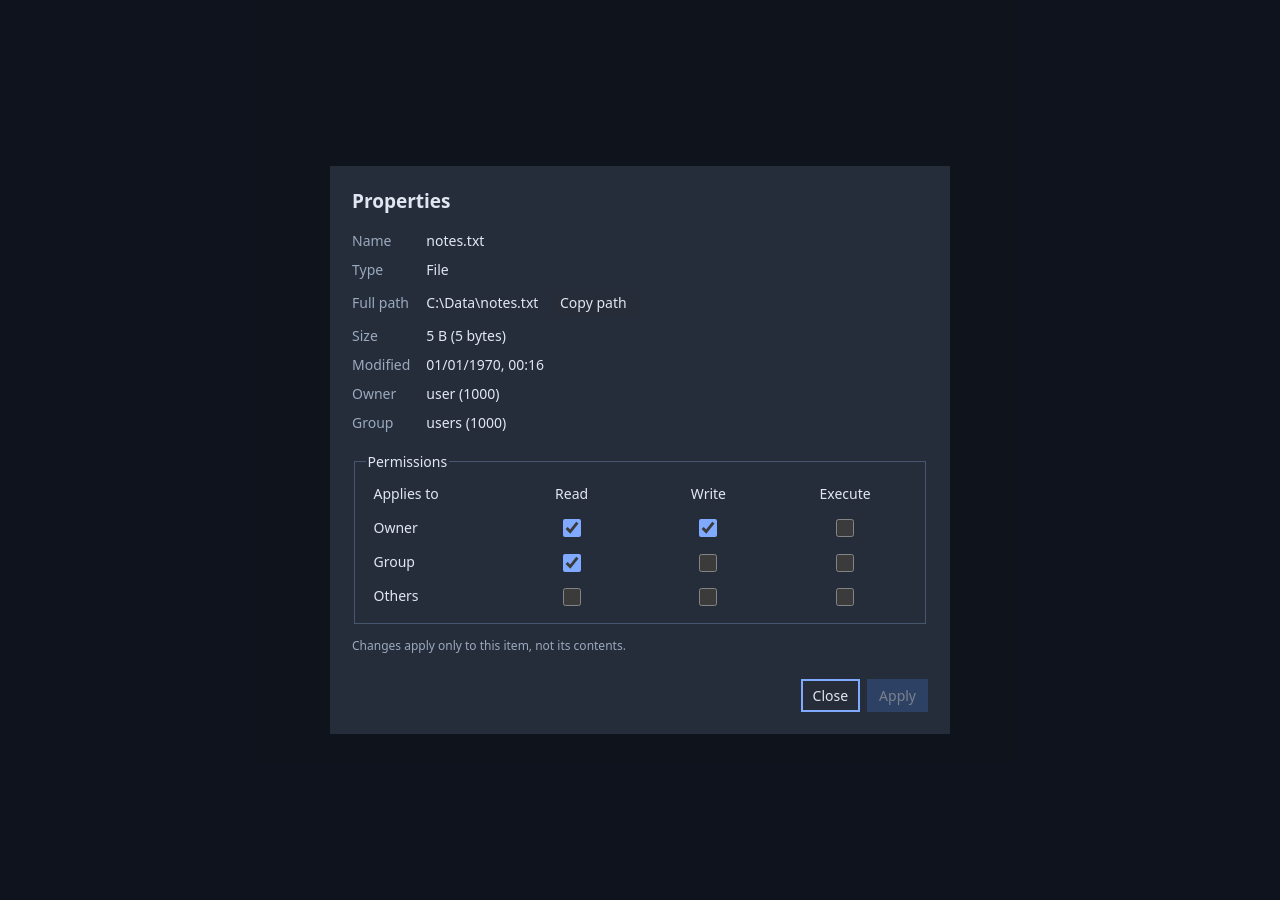
copies a displayable Windows path as text
Click the button "Copy path" at (593, 303), box left=550, top=289, right=637, bottom=316
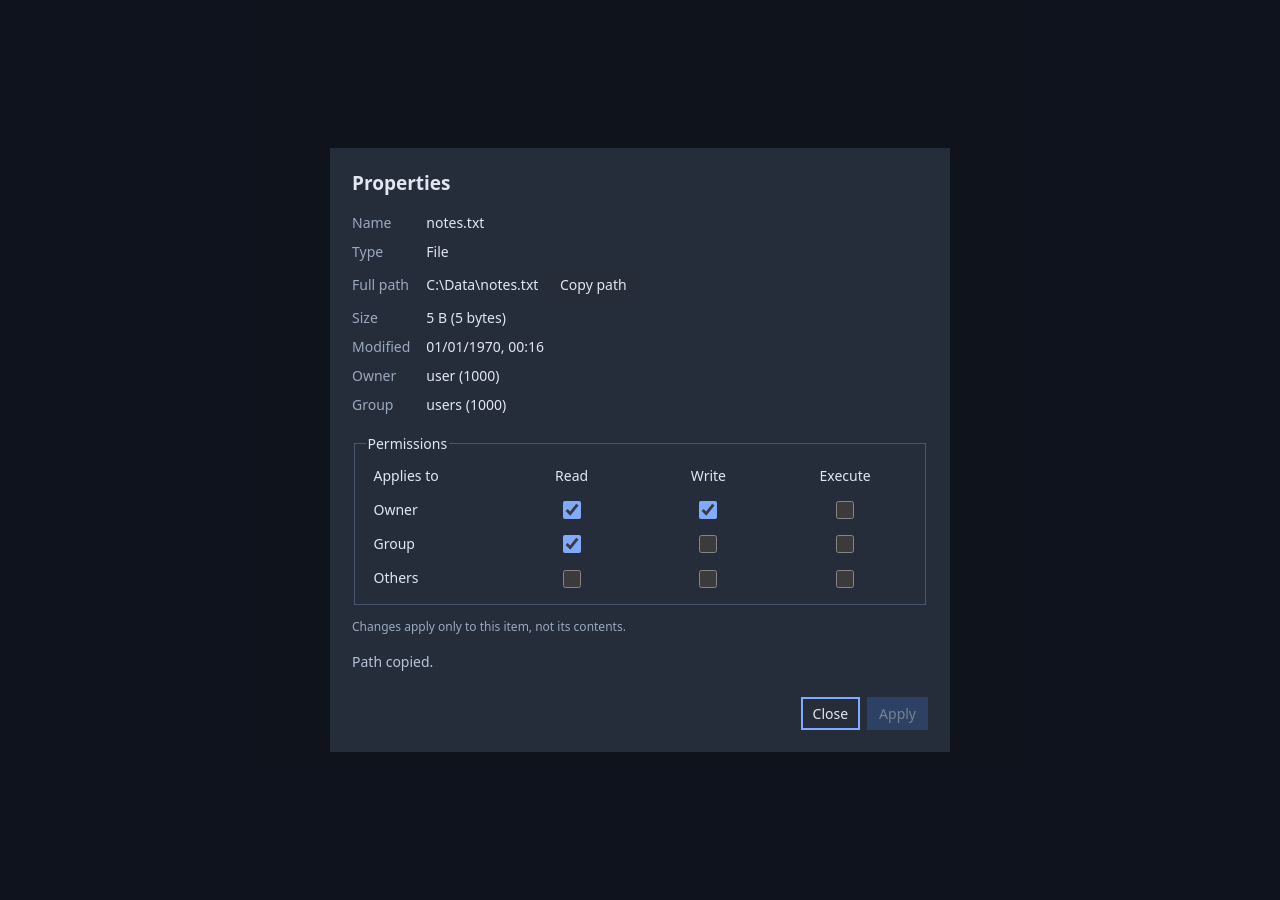
Check: the text "Path copied." is shown, box left=352, top=652, right=433, bottom=671
